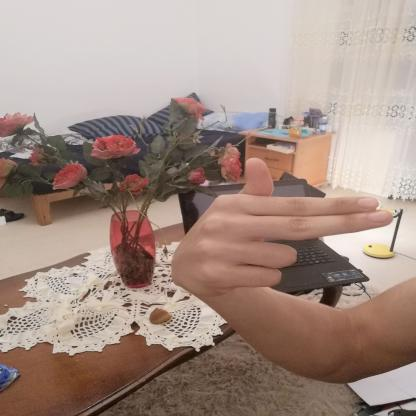GHAYN: (156, 148, 403, 308)
